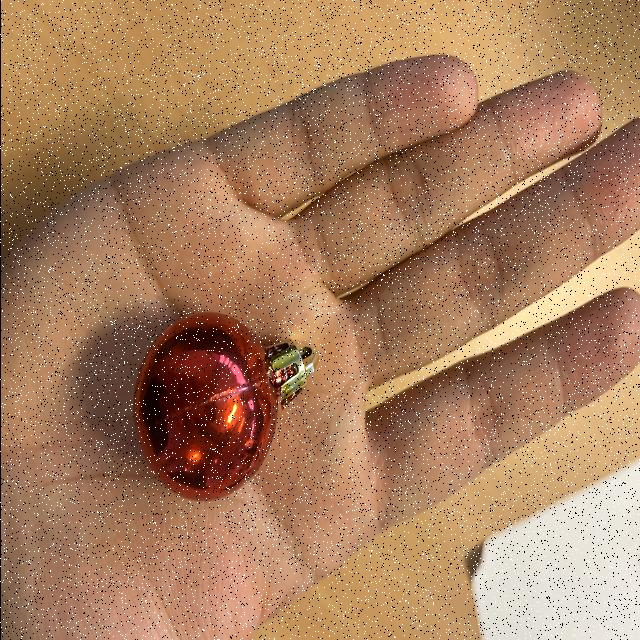glossy-bauble: (121, 287, 326, 519), (132, 312, 318, 501)
